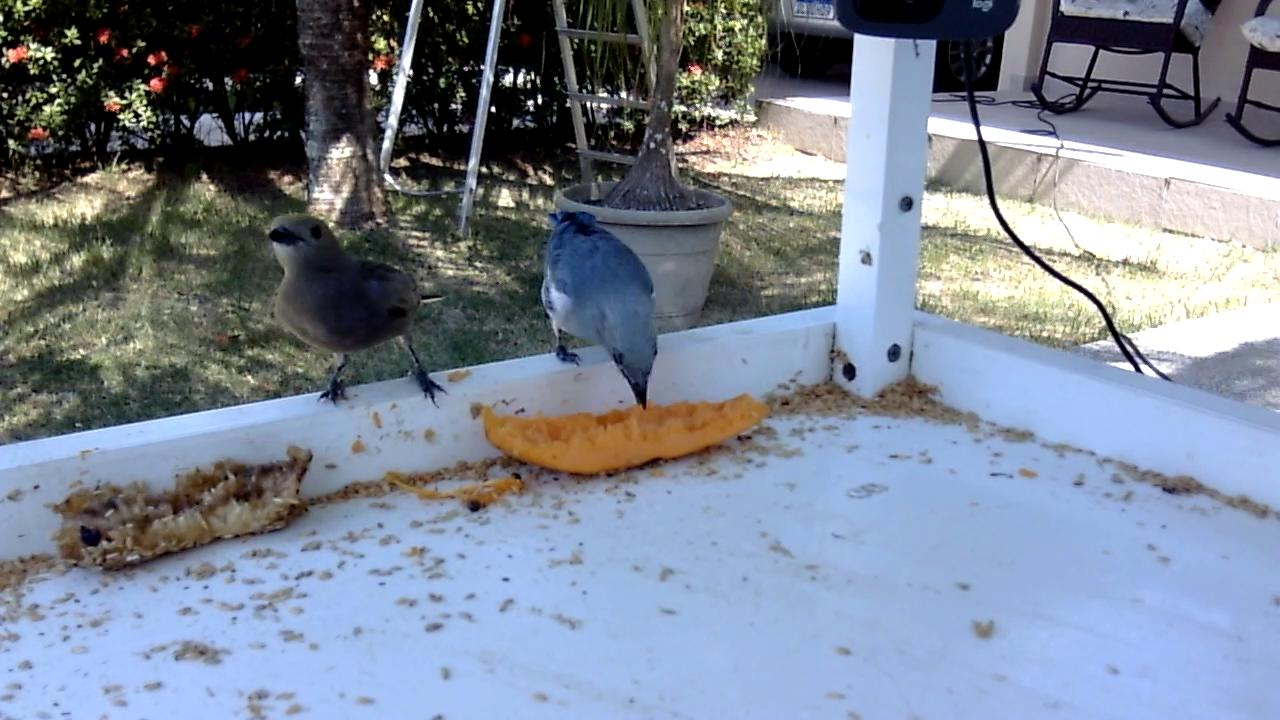sanhaco_da_amazonia: (538, 209, 665, 414)
sanhaco_do_coqueiro: (263, 212, 455, 411)
